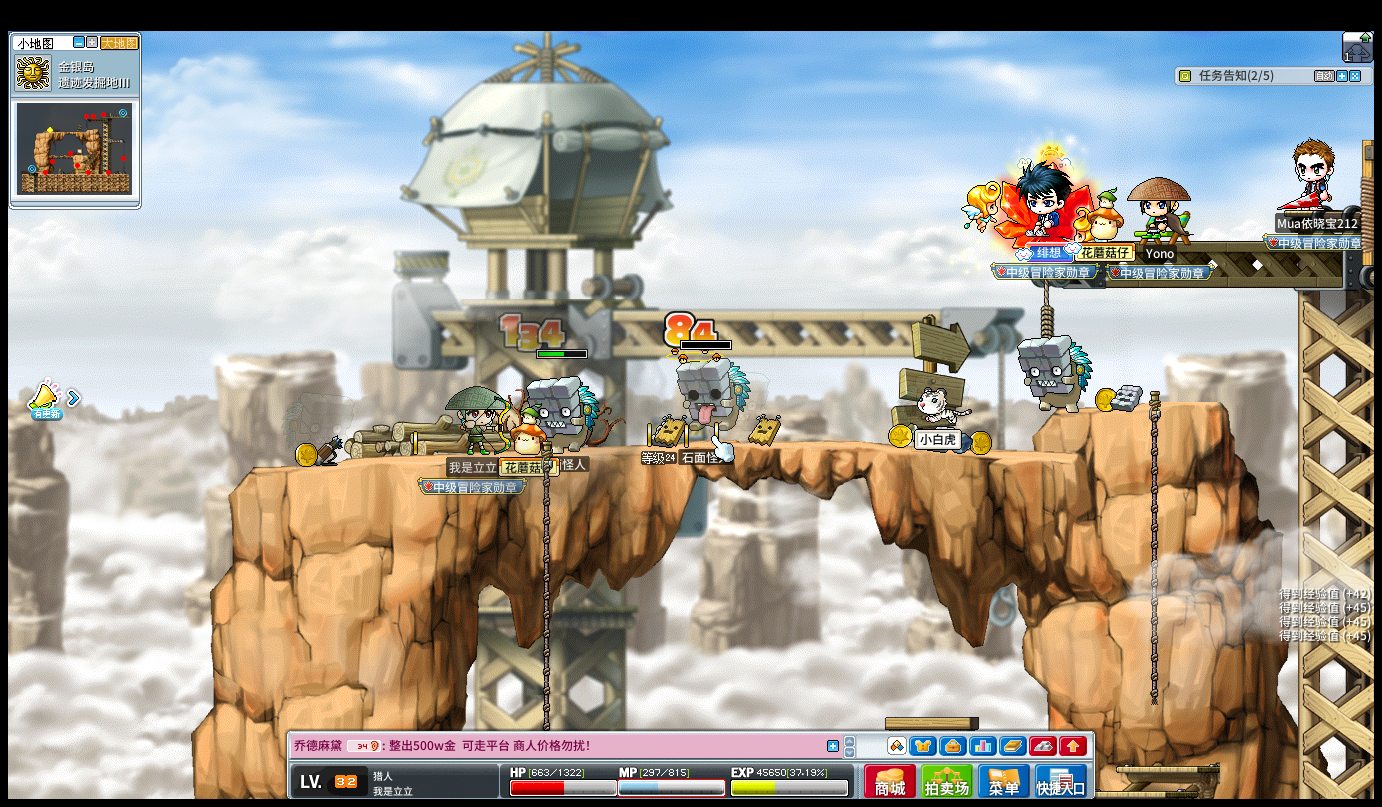floor: (247, 437, 1142, 458), (1067, 396, 1226, 413), (1114, 764, 1217, 775)
monster: (675, 357, 750, 440), (1016, 335, 1093, 414), (528, 376, 599, 449)
rope: (1146, 387, 1160, 706), (539, 438, 551, 739), (540, 440, 552, 672)
